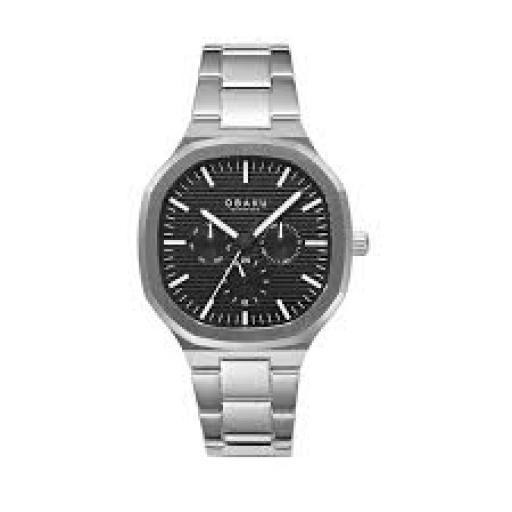KolSaati: (134, 34, 389, 474)
